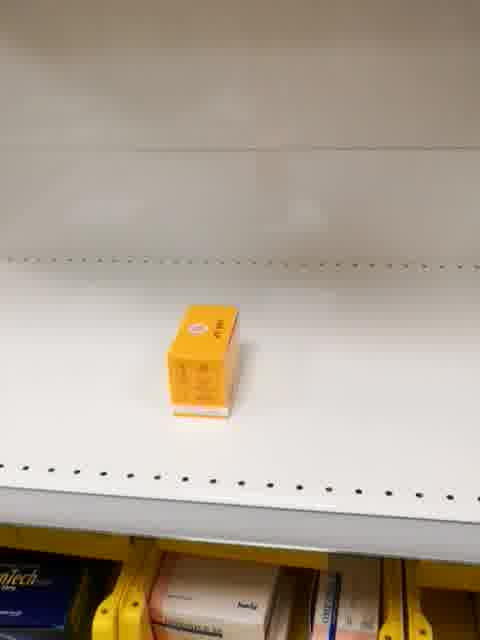jasminetea: (167, 304, 241, 421)
